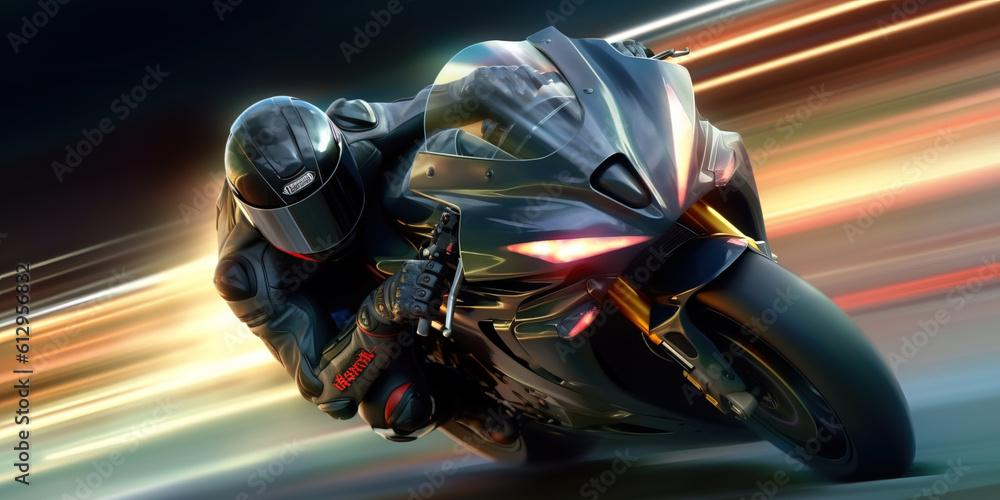helmet: (223, 94, 368, 264)
